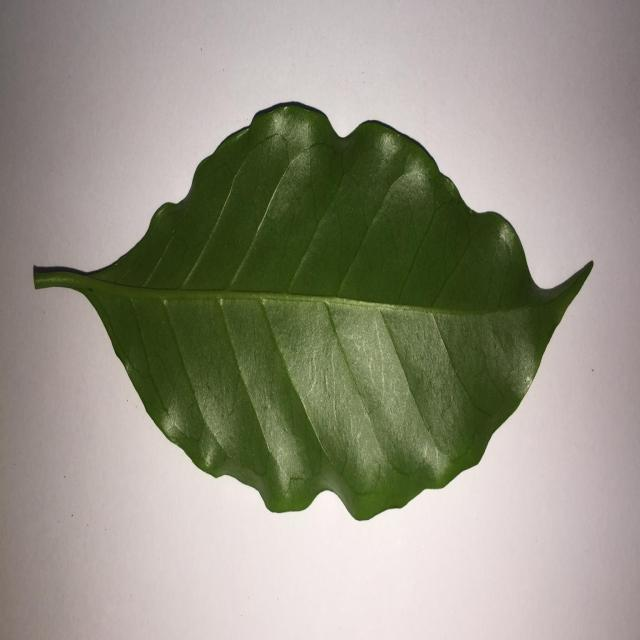nodisease: (34, 102, 593, 521)
